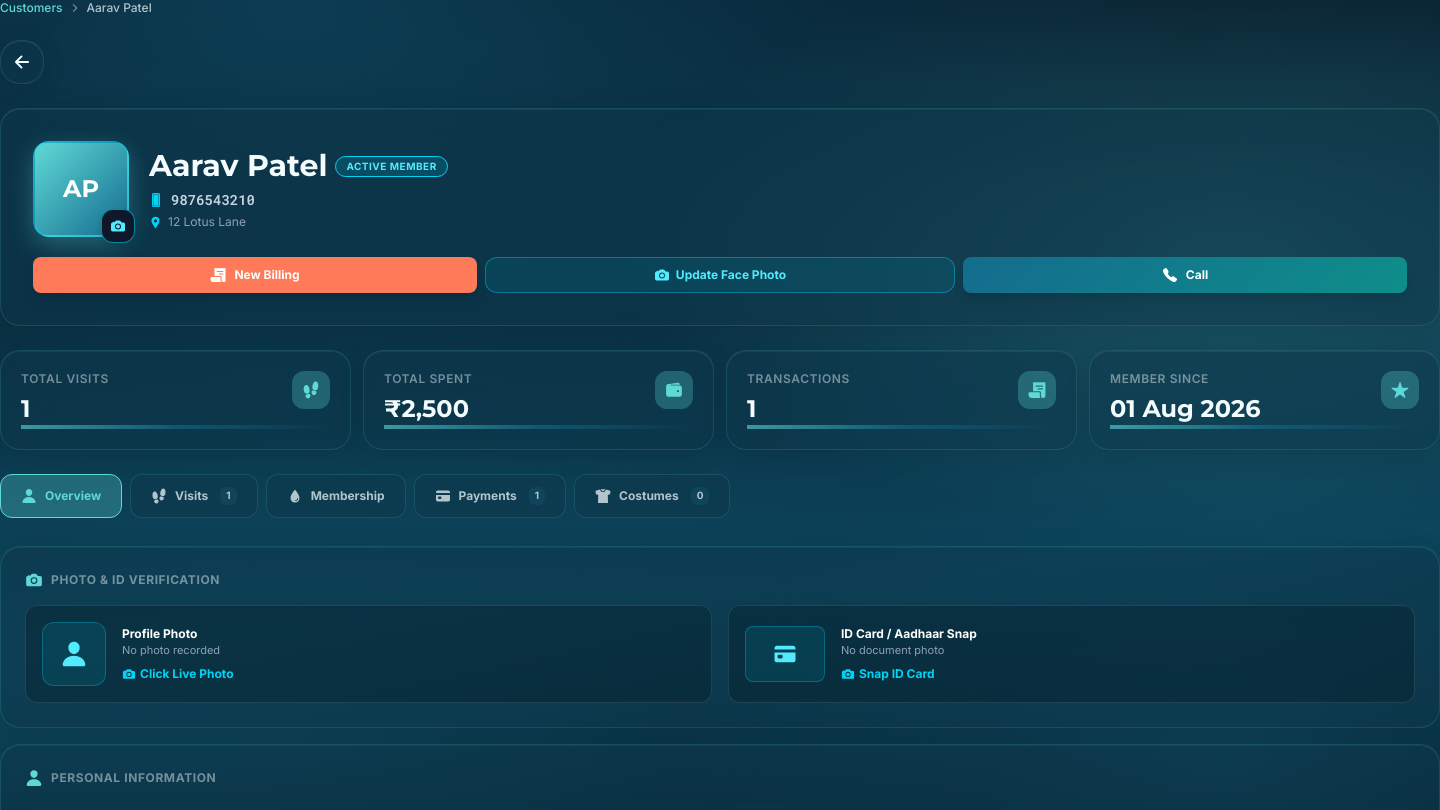
Test: CustomerProfilePage › renders memberships, recent visits, and transactions when data is present
Expected: the text "Active Member" is shown, [335,156,448,176]
Click the button "Membership" at coordinates (336, 496), box [266,474,406,518]
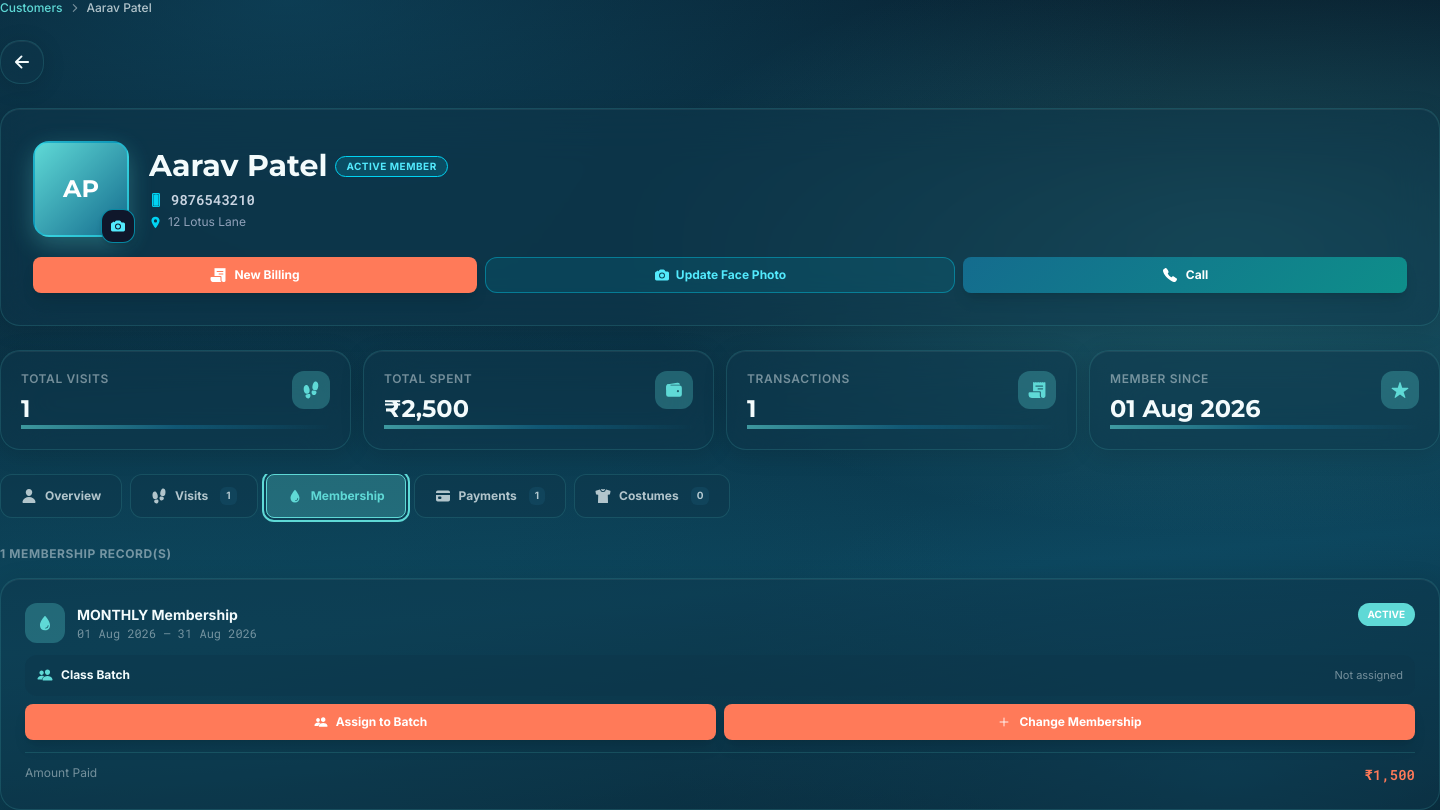
Expected: the text "₹1,500" is shown, [1365,764,1415,784]
Now the text "Amount Paid" is shown, box [25,764,97,784]
Click the button "Payments 1" at coordinates (490, 496), box [414,474,566,518]
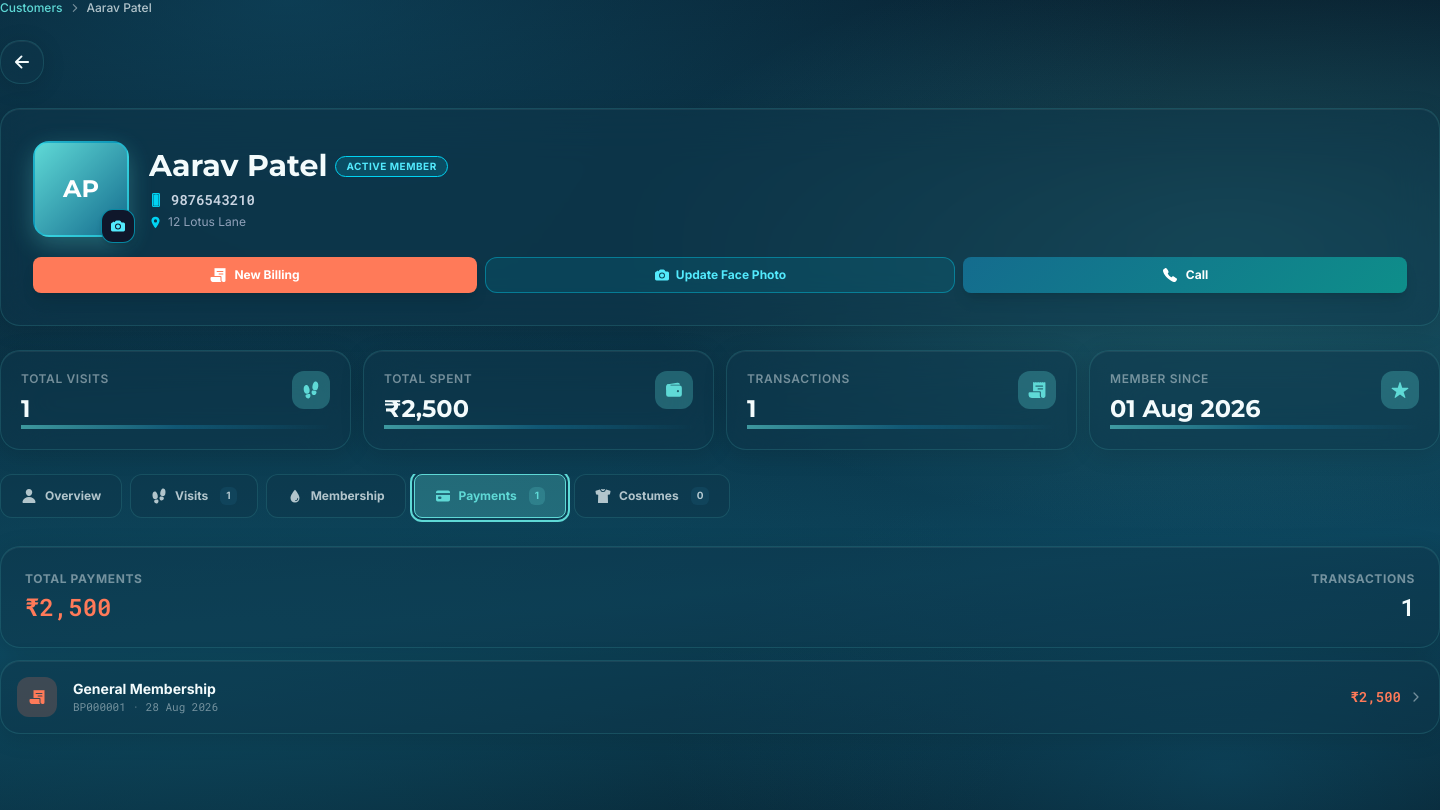
Expected: the text "₹2,500" below "Total Spent" is shown, [384,394,469,423]
Now the text "General Membership" is shown, box [73,680,216,697]
Now the text "BP000001 · 28 Aug 2026" is shown, box [73,699,218,714]
